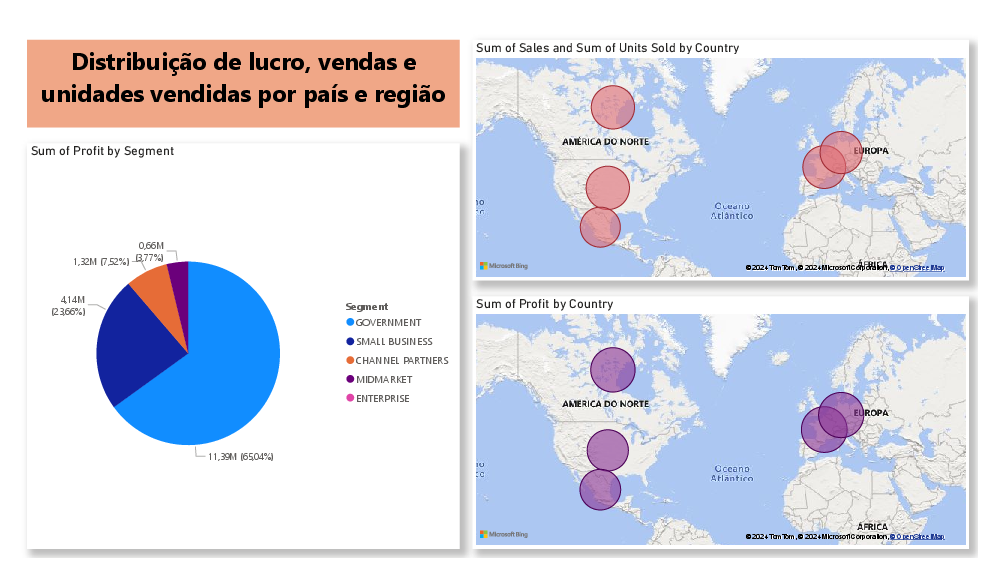

This screenshot's page, from the dashboard's own definition file:
{"tool":"powerbi","page":{"name":"Page 3","canvas":[1280,720],"ordinal":2},"visuals":[{"type":"pieChart","fields":{"Y":["Sum(financials.Profit)"],"Category":["financials.Segment"]},"box":[11.9,166.5,577,541.3],"z":0},{"type":"textbox","box":[11.9,28.6,577,117.8],"z":1000},{"type":"map","fields":{"Category":["financials.Country"],"Size":["Sum(financials. Sales)"]},"box":[605.5,28.6,662.6,321.2],"z":2000},{"type":"map","fields":{"Category":["financials.Country"],"Size":["Sum(financials.Profit)"]},"box":[605.5,371.2,662.6,336.7],"z":3000}]}

Visuals, with their boxes in screenshot pixels (x1, y1, x2, y2), scaled from the page's 1280x720 canvas onto the 996x576 screenshot:
pieChart - Sum(financials.Profit) x financials.Segment: {"x1": 9, "y1": 133, "x2": 458, "y2": 566}
textbox: {"x1": 9, "y1": 23, "x2": 458, "y2": 117}
map - financials.Country x Sum(financials. Sales): {"x1": 471, "y1": 23, "x2": 987, "y2": 280}
map - financials.Country x Sum(financials.Profit): {"x1": 471, "y1": 297, "x2": 987, "y2": 566}
